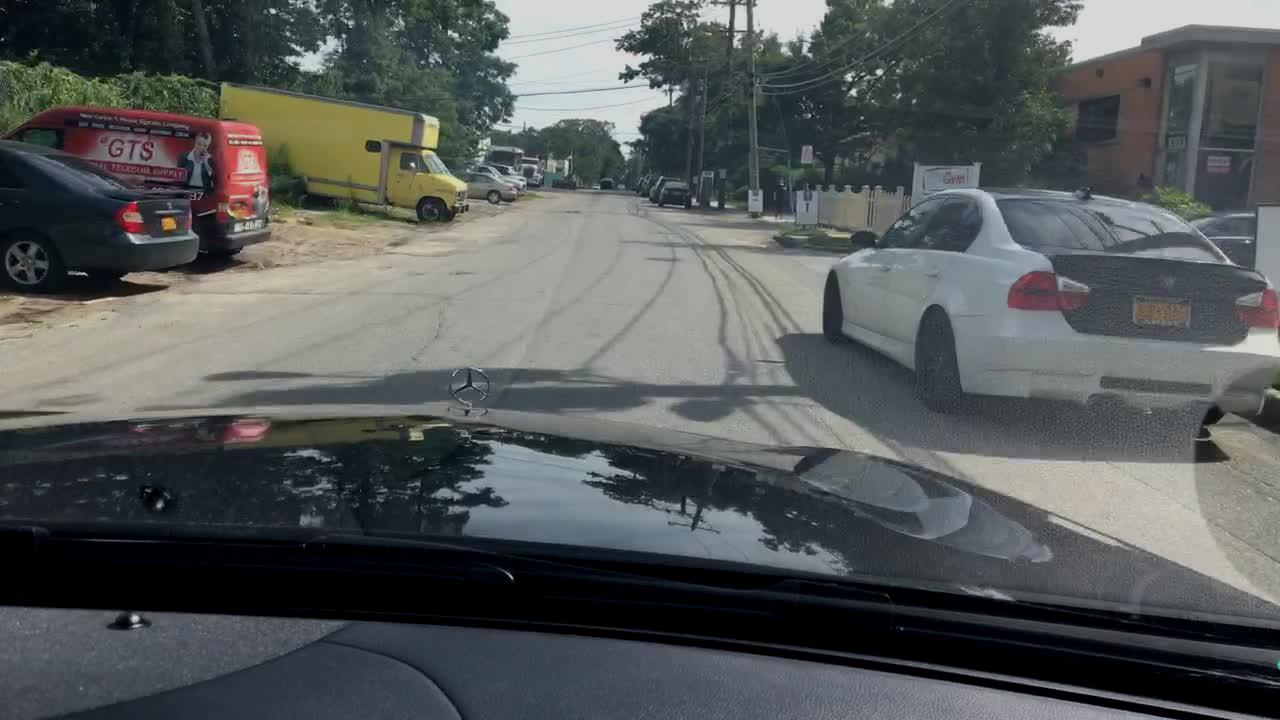Mercedes: (434, 362, 501, 416)
